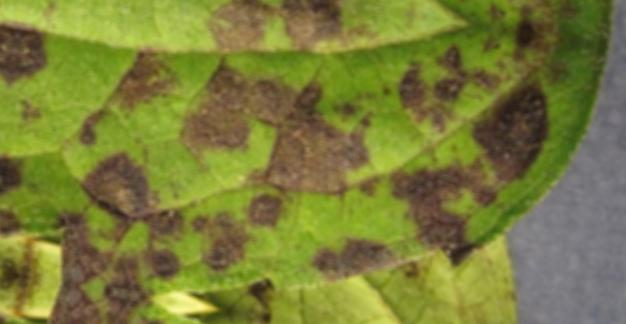Tomato Septoria leaf spot: (0, 0, 626, 324), (0, 74, 604, 324)
